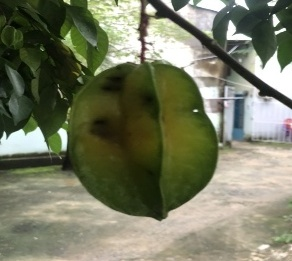Khe: (65, 58, 226, 225)
